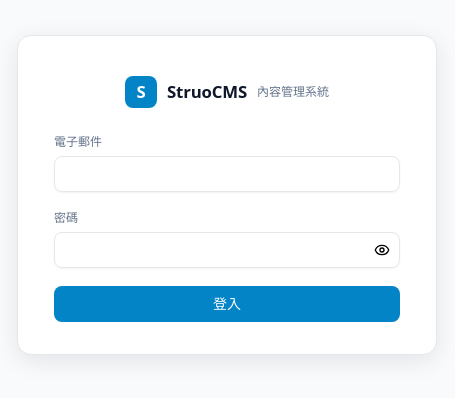
Scenario: LoginView › shows the deactivated-account message for ACCOUNT_INACTIVE
This screenshot has width=455, height=398.
Type "a@b.com" into the field labelled "電子郵件" at coordinates (227, 174), box [54,156,400,192]
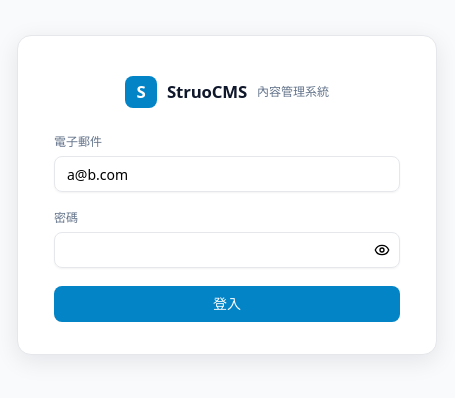
Type "pw" into the password field labelled "密碼" at coordinates (227, 250), box [54,232,400,268]
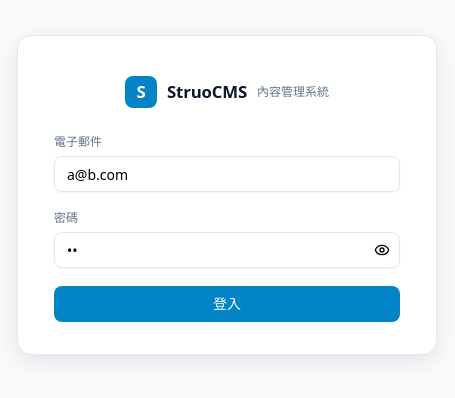
Submit the form, box [54,134,400,322]
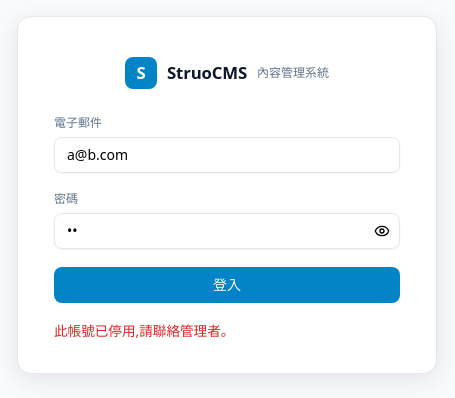
Result: the text "此帳號已停用,請聯絡管理者。" is shown at [54,321,234,340]
